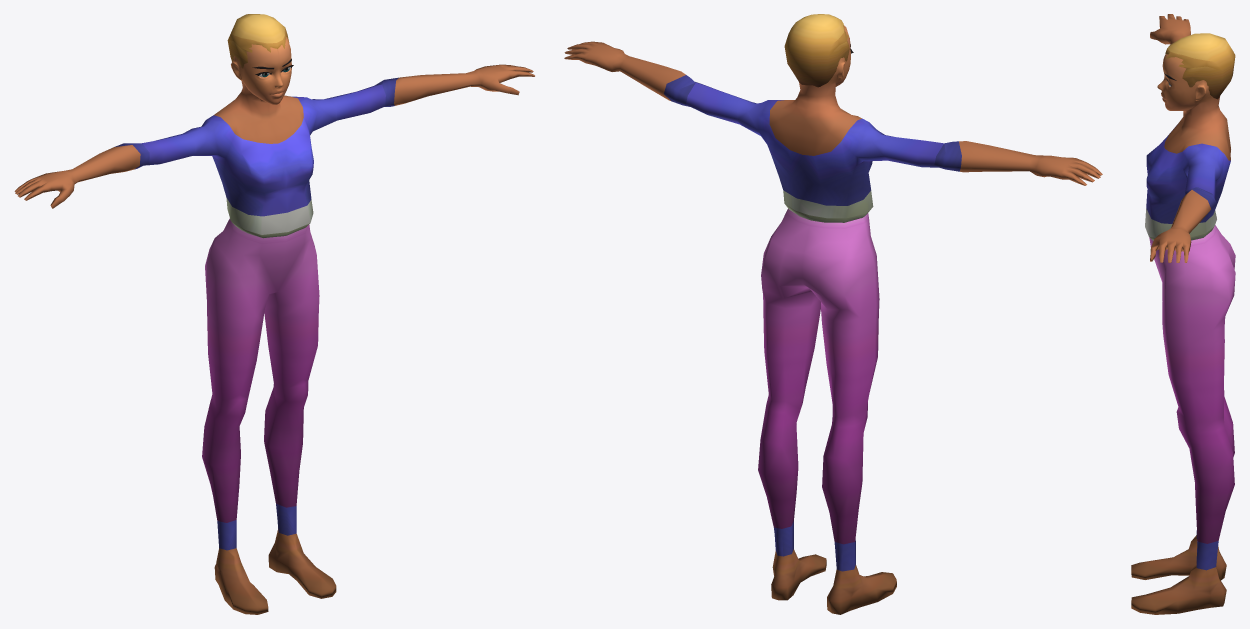
The model's file is Girl.fbx.
3 renders of one model, left to right at view 1: azimuth 30°, elevation 25°; view 2: azimuth 150°, elevation 25°; view 3: azimuth 270°, elevation 25°, orthographic. The views are drawn at different scales.
Parts seen in each view (by area): view 1: Girl; view 2: Girl; view 3: Girl.
Boxes of the visible parts, x1,y1,x2,y2 form: Girl: (14,14,534,614); Girl: (564,14,1102,614); Girl: (1131,14,1235,614).
Bounding box in the file's own units: 329 × 344 × 58.54.
